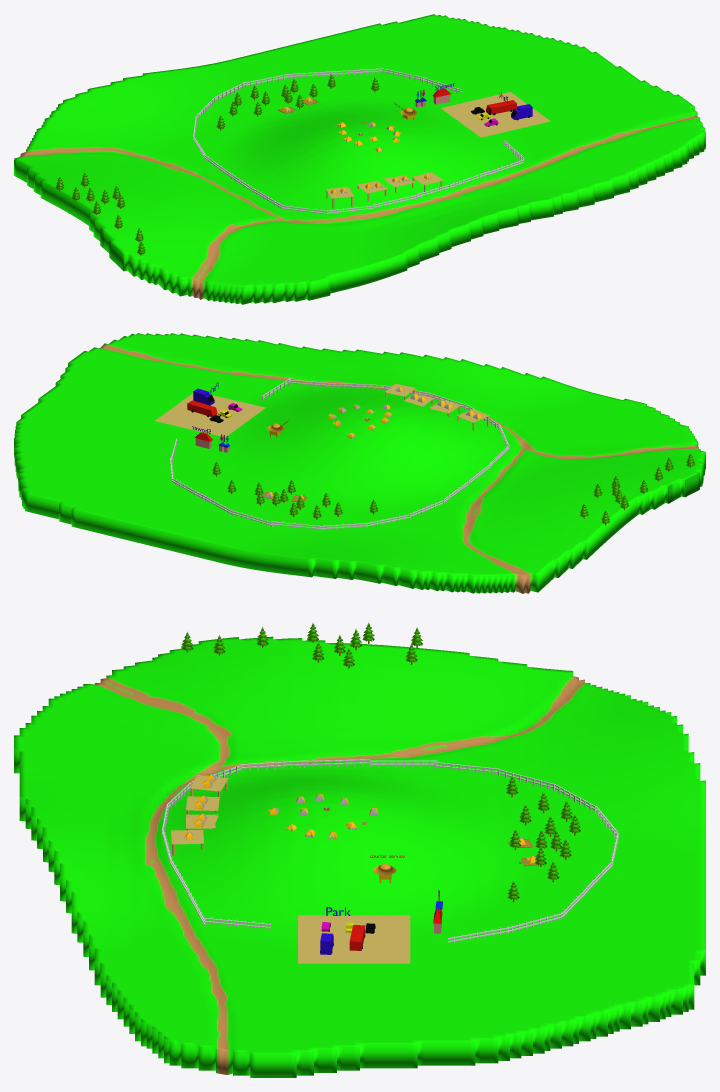
The model's file is thongnuem.glb.
3 views of the same model, one above another, from view 1: azimuth 30°, elevation 25°; view 2: azimuth 150°, elevation 25°; view 3: azimuth 270°, elevation 25° (orthographic). The views are drawn at different scales.
Parts seen in each view (by area): view 1: Plane, Plane.001; view 2: Plane, Plane.001; view 3: Plane, Plane.001.
Boxes of the visible parts, x1,y1,x2,y2 form: Plane: [14, 14, 705, 304]; Plane.001: [441, 92, 550, 137]; Plane: [14, 333, 705, 593]; Plane.001: [155, 393, 265, 437]; Plane: [14, 636, 705, 1077]; Plane.001: [298, 915, 410, 963].
Bounding box in the file's own units: 380 × 33.18 × 278.
42 materials, 1 textured.
